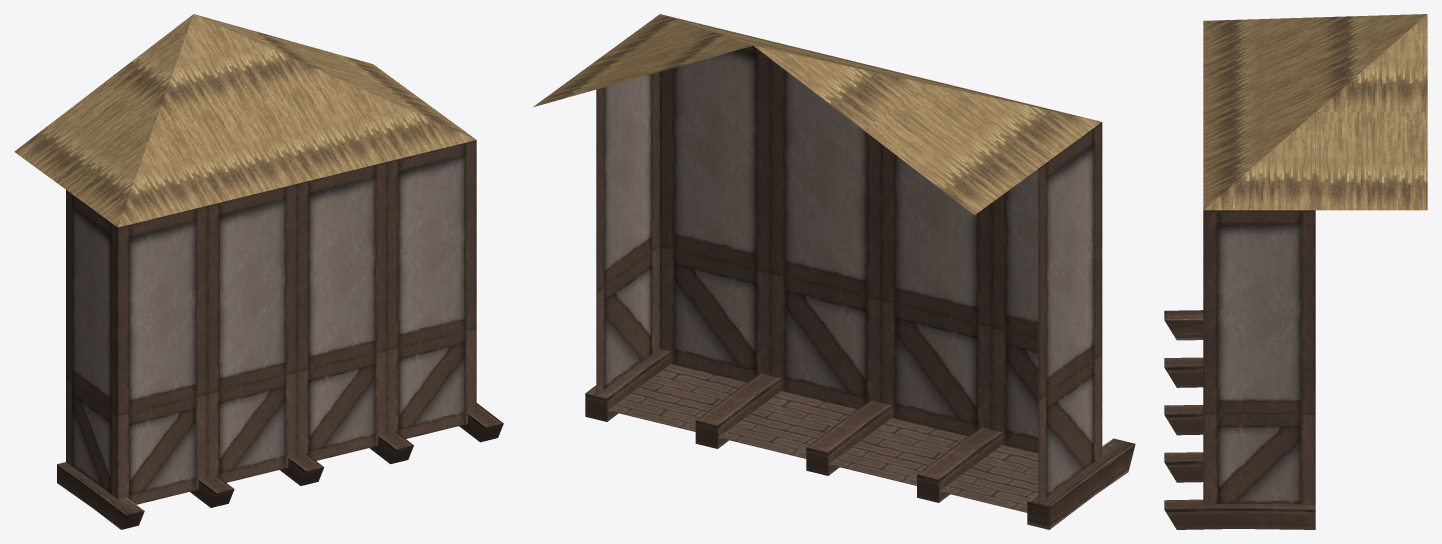
The model's file is roof_straw_stickout_triangle_roof.glb.
3 renders of one model, left to right at view 1: azimuth 30°, elevation 25°; view 2: azimuth 150°, elevation 25°; view 3: azimuth 270°, elevation 25°, orthographic. The views are drawn at different scales.
Parts seen in each view (by area): view 1: roof_straw_stickout_triangle_roof; view 2: roof_straw_stickout_triangle_roof; view 3: roof_straw_stickout_triangle_roof.
Boxes of the visible parts, bbox=[...] form: roof_straw_stickout_triangle_roof: bbox=[14, 14, 503, 529]; roof_straw_stickout_triangle_roof: bbox=[533, 14, 1135, 529]; roof_straw_stickout_triangle_roof: bbox=[1164, 14, 1427, 529].
Bounding box in the file's own units: 4.2 × 4.1 × 2.35.
1 material, 1 textured.
